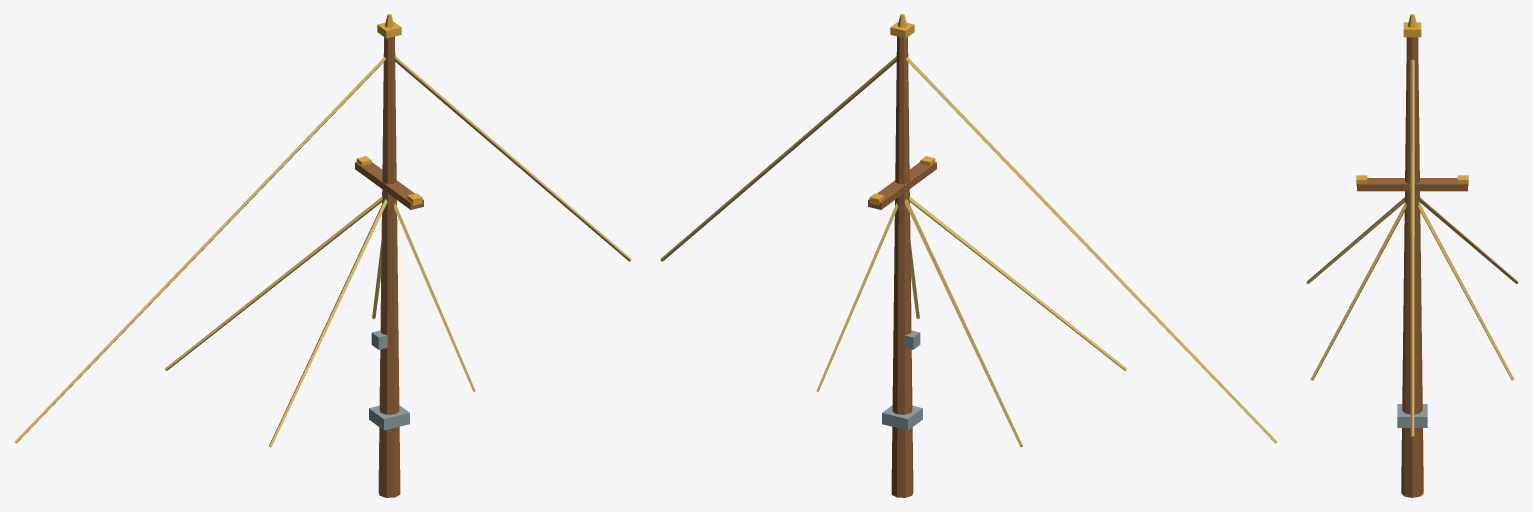
Rendered from ship_mast.glb.
3 renders of one model, left to right at view 1: azimuth 30°, elevation 25°; view 2: azimuth 150°, elevation 25°; view 3: azimuth 270°, elevation 25°, orthographic.
Visible parts, largest first — view 1: Mast_Spar, Mast_Backstay, Mast_Forestay, Mast_Shroud_2, Mast_Shroud_1, Mast_Crosstree, Mast_Shroud_3, Mast_Collar; view 2: Mast_Spar, Mast_Backstay, Mast_Forestay, Mast_Shroud_1, Mast_Shroud_2, Mast_Crosstree, Mast_Shroud_4, Mast_Collar; view 3: Mast_Spar, Mast_Forestay, Mast_Crosstree, Mast_Shroud_3, Mast_Shroud_4, Mast_Shroud_1, Mast_Shroud_2, Mast_Collar, Mast_Cap.
Part boxes in pixels (box(x1,y1,x2,y2)): Mast_Spar: box(378, 36, 400, 497); Mast_Backstay: box(14, 57, 385, 443); Mast_Forestay: box(395, 56, 631, 261); Mast_Shroud_2: box(165, 196, 382, 370); Mast_Shroud_1: box(269, 199, 387, 446); Mast_Crosstree: box(355, 162, 423, 209); Mast_Shroud_3: box(393, 202, 475, 391); Mast_Collar: box(369, 405, 409, 430); Mast_Spar: box(891, 36, 913, 497); Mast_Backstay: box(906, 57, 1277, 443); Mast_Forestay: box(660, 56, 896, 261); Mast_Shroud_1: box(909, 196, 1126, 370); Mast_Shroud_2: box(904, 199, 1022, 446); Mast_Crosstree: box(868, 162, 936, 209); Mast_Shroud_4: box(816, 202, 898, 391); Mast_Collar: box(882, 405, 922, 430); Mast_Spar: box(1401, 37, 1423, 497); Mast_Forestay: box(1410, 59, 1414, 436); Mast_Crosstree: box(1357, 178, 1467, 191); Mast_Shroud_3: box(1310, 202, 1406, 380); Mast_Shroud_4: box(1418, 202, 1514, 380); Mast_Shroud_1: box(1306, 197, 1404, 283); Mast_Shroud_2: box(1420, 197, 1518, 283); Mast_Collar: box(1397, 404, 1427, 427); Mast_Cap: box(1403, 22, 1421, 37).
Bounding box in the file's own units: 10.37 × 7.69 × 3.09.
